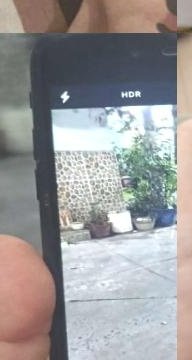scratch: (38, 186, 51, 208)
